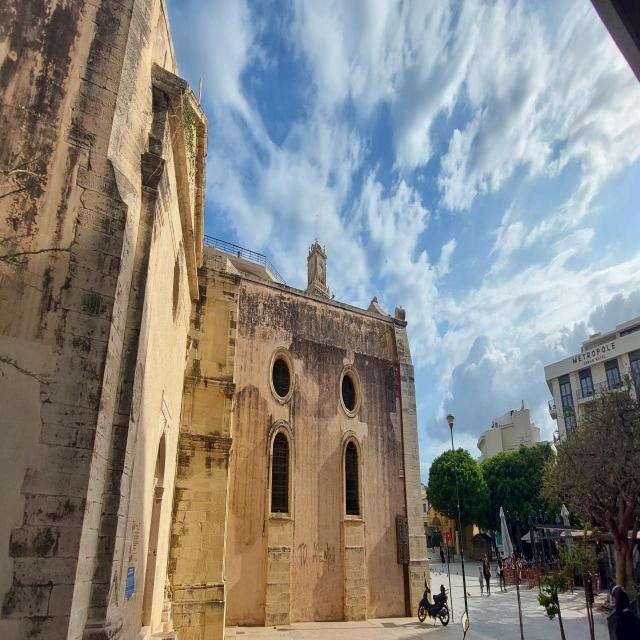Agia Aikaterini: (1, 1, 429, 630)
